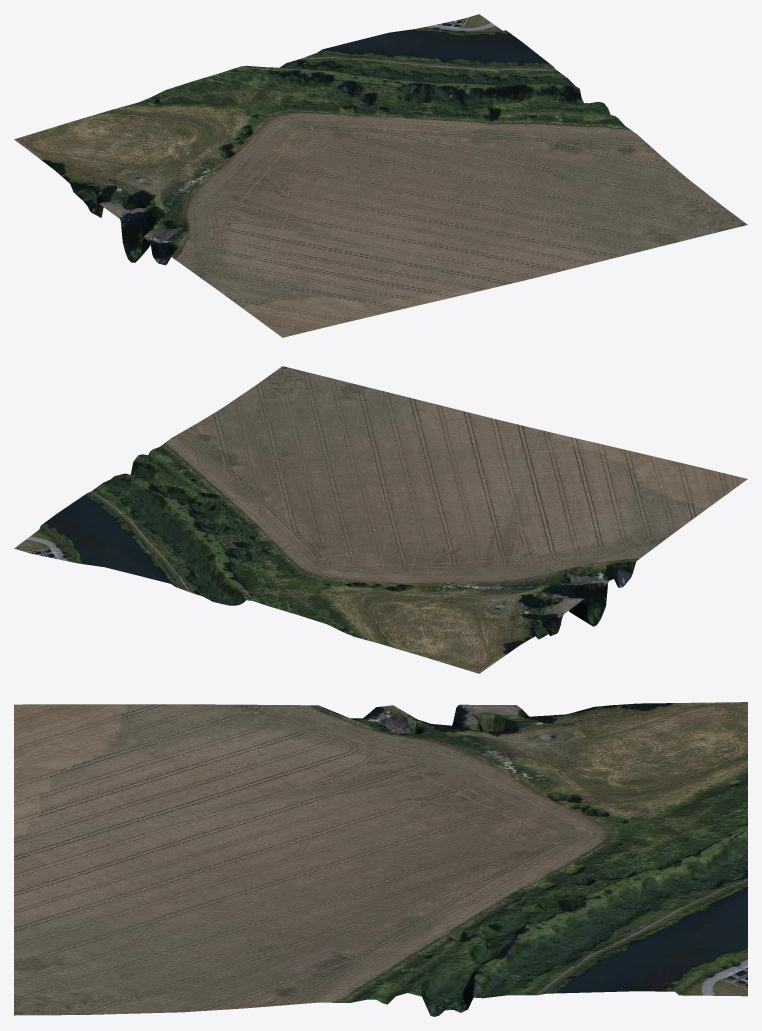
File: map_13_2044_3443.dae
3 views of the same model, one above another, from view 1: azimuth 30°, elevation 25°; view 2: azimuth 150°, elevation 25°; view 3: azimuth 270°, elevation 25° (orthographic). The views are drawn at different scales.
Parts seen in each view (by area): view 1: Ter0; view 2: Ter0; view 3: Ter0.
Boxes of the visible parts, x1=… form: Ter0: x1=14, y1=14, x2=747, y2=337; Ter0: x1=14, y1=366, x2=747, y2=673; Ter0: x1=14, y1=702, x2=747, y2=1016.
Bounding box in the file's own units: 256 × 256 × 29.09.
Materials: 2 (2 with a texture image).
